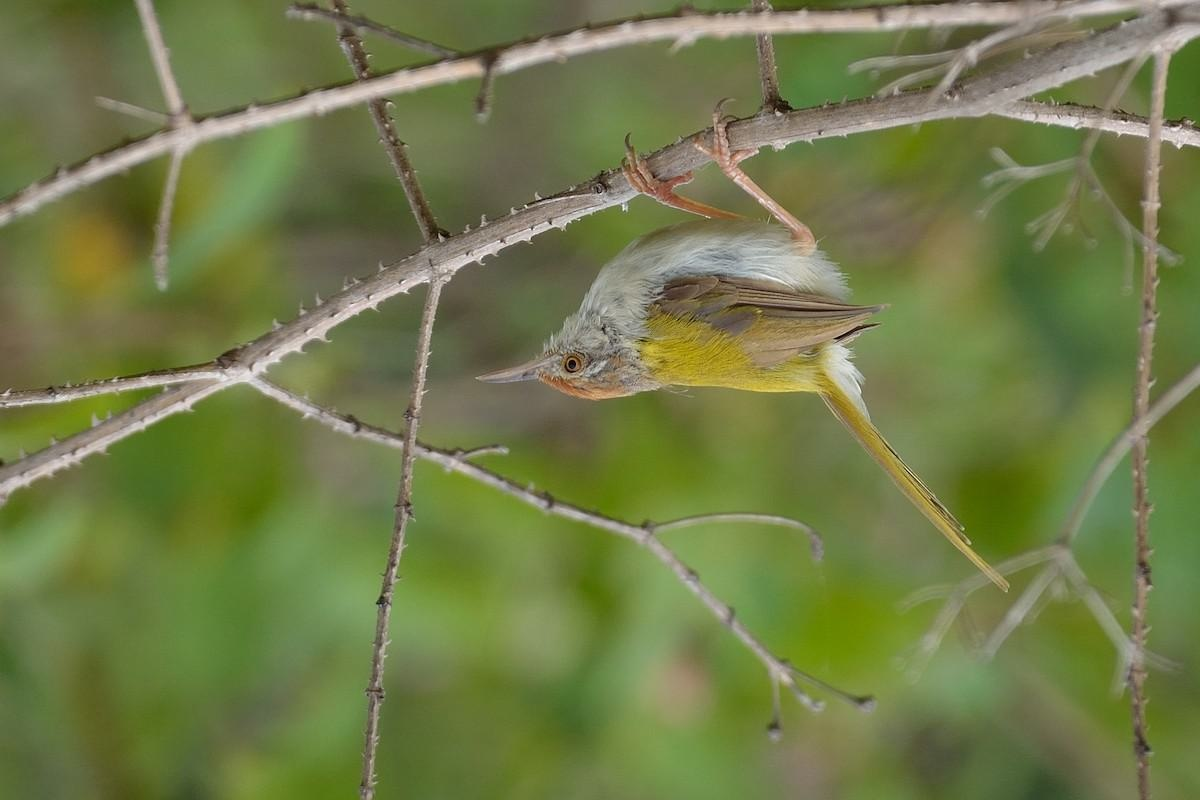tailorbird: (475, 123, 1033, 612)
